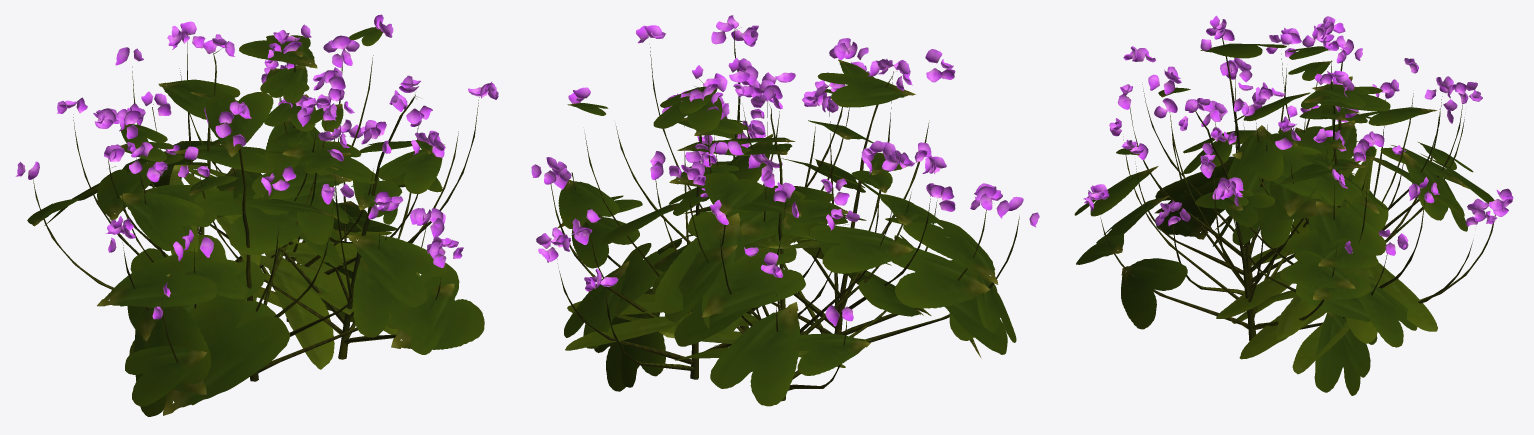
File: garden-rhododendron.glb
The picture shows the model from 3 angles, left to right: view 1: azimuth 30°, elevation 25°; view 2: azimuth 150°, elevation 25°; view 3: azimuth 270°, elevation 25°; orthographic projection. The views are drawn at different scales.
Parts seen in each view (by area): view 1: garden-rhododendron; view 2: garden-rhododendron; view 3: garden-rhododendron.
Boxes of the visible parts, bbox=[...] form: garden-rhododendron: bbox=[15, 14, 498, 416]; garden-rhododendron: bbox=[531, 15, 1039, 406]; garden-rhododendron: bbox=[1074, 15, 1513, 395].
Bounding box in the file's own units: 1.31 × 1.1 × 1.46.
4 materials, 4 textured.
